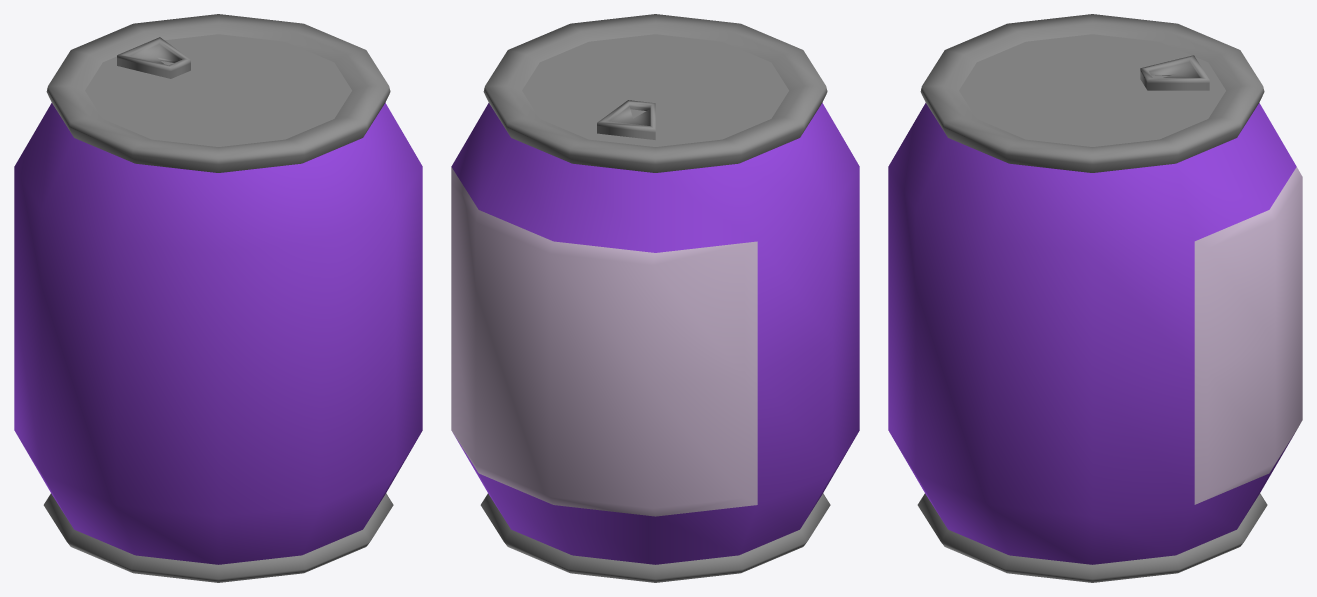
The model's file is props_soda_can.fbx.
The picture shows the model from 3 angles, left to right: view 1: azimuth 30°, elevation 25°; view 2: azimuth 150°, elevation 25°; view 3: azimuth 270°, elevation 25°; orthographic projection.
Parts seen in each view (by area): view 1: props_soda_can; view 2: props_soda_can; view 3: props_soda_can.
Boxes of the visible parts, box(x1,y1,x2,y2) form: props_soda_can: box(14, 14, 422, 582); props_soda_can: box(451, 14, 859, 582); props_soda_can: box(888, 14, 1302, 582).
Bounding box in the file's own units: 0.298 × 0.3022 × 0.3469.
